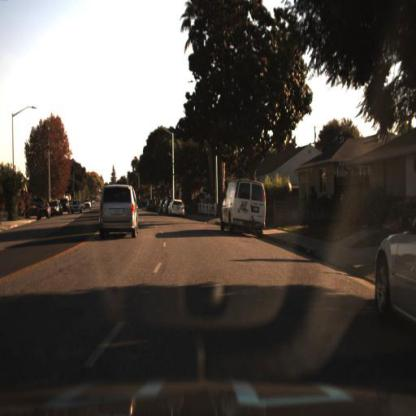car: (373, 216, 416, 337), (218, 177, 269, 239), (100, 182, 142, 239), (49, 197, 61, 221), (61, 195, 73, 219), (37, 202, 52, 221), (168, 200, 184, 217), (69, 198, 84, 216), (82, 196, 94, 214), (162, 195, 170, 220), (50, 200, 62, 216), (72, 201, 84, 217), (157, 195, 165, 219)
